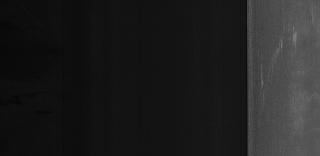silk spot: (258, 20, 316, 104)
